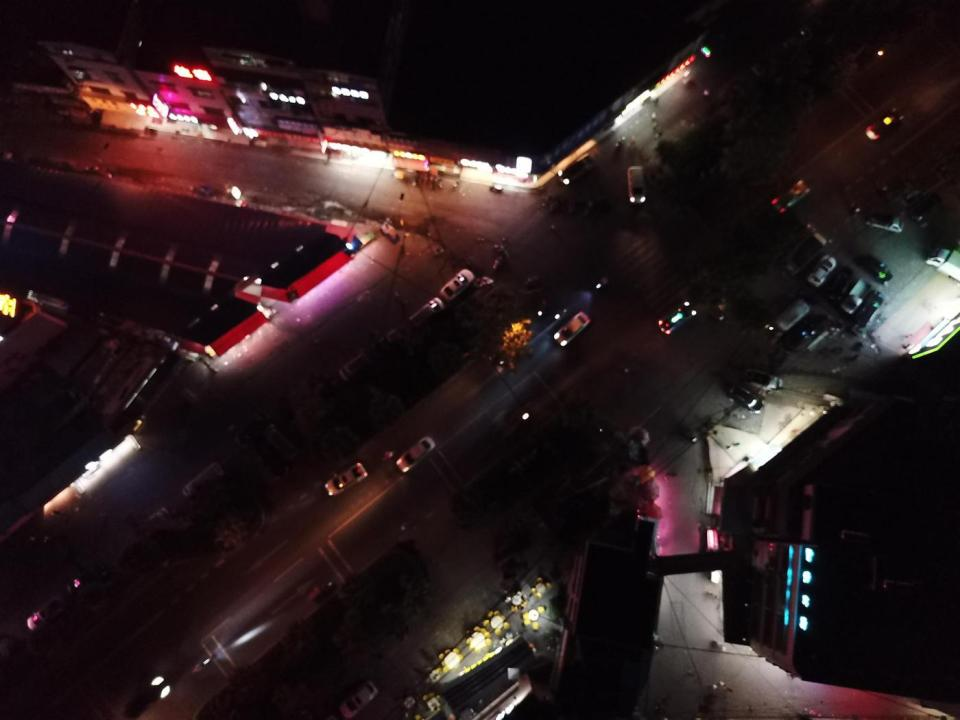car: (780, 231, 827, 282), (120, 674, 171, 720), (180, 459, 226, 503), (394, 434, 437, 474), (338, 678, 380, 718), (323, 461, 368, 498), (770, 178, 813, 215), (25, 594, 66, 630), (656, 301, 698, 335), (865, 107, 905, 142), (553, 311, 591, 347), (439, 266, 476, 302), (558, 152, 598, 185), (853, 290, 885, 330), (774, 299, 811, 333), (339, 348, 374, 383), (409, 296, 445, 329), (857, 253, 894, 285), (726, 384, 764, 414), (739, 368, 785, 392), (806, 254, 836, 287), (825, 265, 852, 301)
truck: (924, 246, 960, 281), (840, 278, 874, 315), (863, 209, 906, 235)
van: (627, 164, 648, 204)
